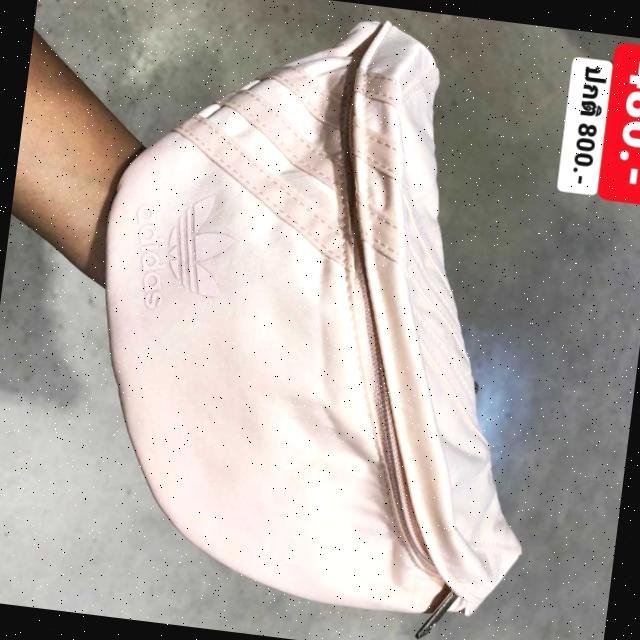Handbag: (63, 0, 585, 629)
